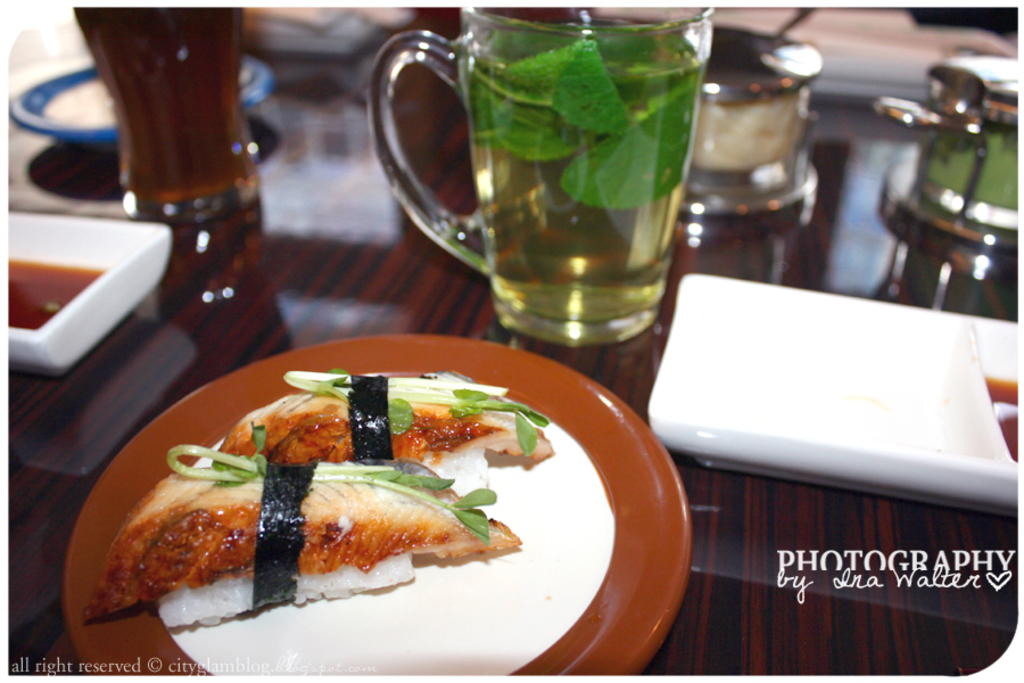sushi: (114, 445, 464, 632), (221, 359, 555, 459)
